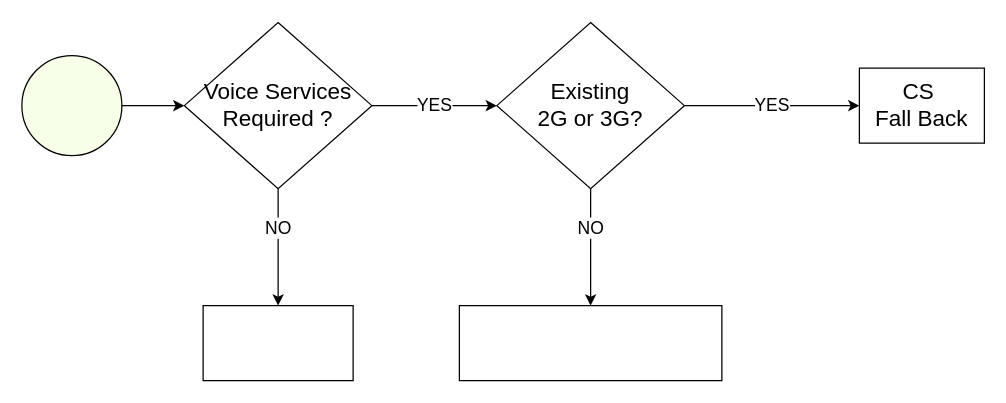
This 1006x403 diagram has some shape labels left out. Each missing label, with the centre of its shape:
No VoLTE: [277,342]
VoLTE by redirecting traffic to MNO's IMS: [590,342]
